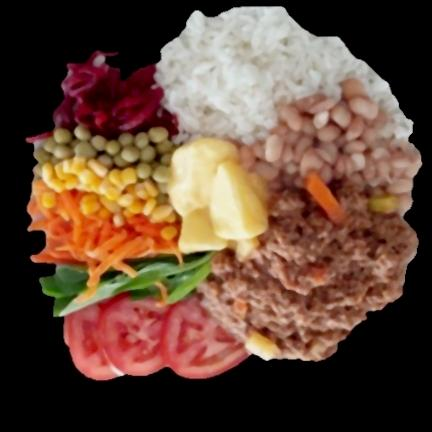beans: (251, 79, 426, 213)
beet: (53, 60, 179, 133)
carrot: (33, 201, 179, 281)
corn: (30, 137, 178, 221)
meat: (194, 195, 418, 359)
peas: (34, 123, 178, 184)
potato: (176, 137, 274, 251)
rice: (157, 8, 412, 147)
salad: (40, 252, 214, 317)
tomato: (62, 296, 253, 379)
